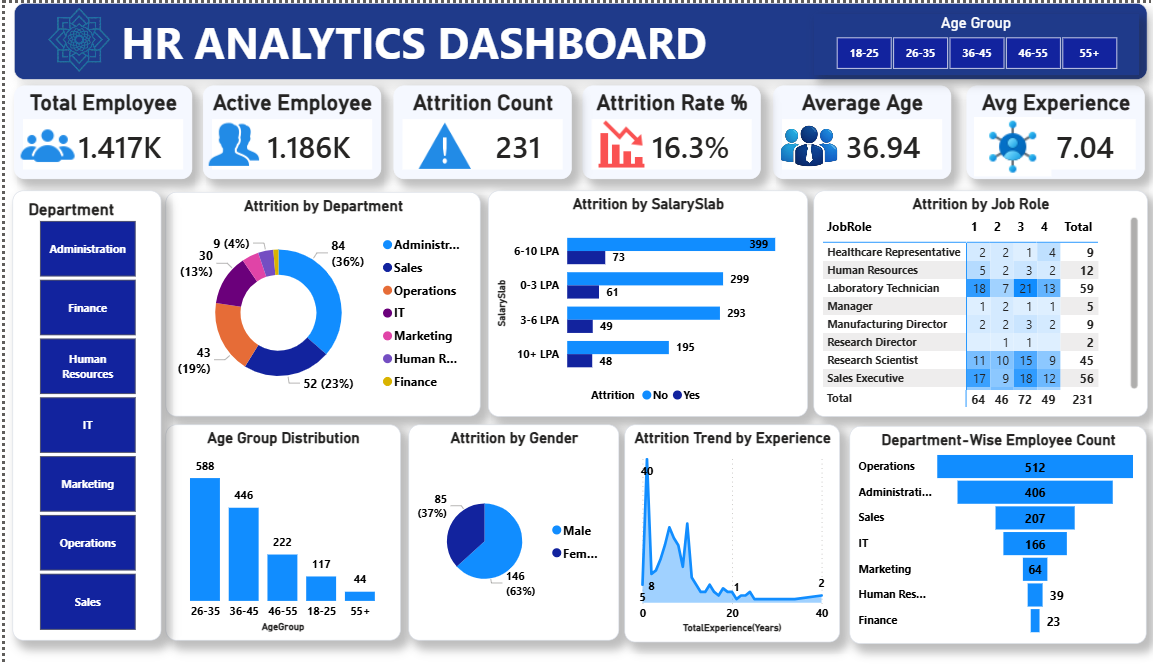

Layout of this report page (visuals, bound fields, positions):
{"tool":"powerbi","page":{"name":"Page 1","canvas":[1280,735],"ordinal":0},"visuals":[{"type":"textbox","box":[10,0,1259,85],"z":0},{"type":"image","box":[10,2,144,78],"z":1000},{"type":"cardVisual","title":"Total Employee","fields":{"Data":["CountNonNull(HR_Analytics-4.EmpID)"]},"box":[10,92,198,104],"z":2000},{"type":"cardVisual","title":"Active Employee","fields":{"Data":["CountNonNull(HR_Analytics-4.EmployeeCount)"]},"box":[220,92,198,104],"z":3000},{"type":"cardVisual","title":"Average Age","fields":{"Data":["Avg(HR_Analytics-4.Age)"]},"box":[854,92,198,104],"z":4000},{"type":"cardVisual","title":"Attrition Rate %","fields":{"Data":["HR_Analytics-4.Attrition Rate %"]},"box":[642,92,198,104],"z":5000},{"type":"cardVisual","title":"Attrition Count","fields":{"Data":["Sum(HR_Analytics-4.AttritionCount)"]},"box":[432,92,198,104],"z":6000},{"type":"cardVisual","title":"Avg Experience","fields":{"Data":["Avg(HR_Analytics-4.YearsatCompany)"]},"box":[1068,92,198,104],"z":7000},{"type":"image","box":[218,128,72,56],"z":8000},{"type":"image","box":[10,126.7,75,60],"z":9000},{"type":"image","box":[642,124,86,68],"z":10000},{"type":"image","box":[438,130,100,62],"z":11000},{"type":"image","box":[830,110,126,104],"z":12000},{"type":"image","box":[1076,126,86,66],"z":13000},{"type":"donutChart","title":"Attrition by Department","fields":{"Category":["HR_Analytics-4.Department"],"Y":["Sum(HR_Analytics-4.AttritionCount)"]},"box":[179,210,350,249],"z":14000},{"type":"clusteredBarChart","title":"Attrition by SalarySlab","fields":{"Category":["HR_Analytics-4.SalarySlab"],"Y":["CountNonNull(HR_Analytics-4.EmpID)"],"Series":["HR_Analytics-4.Attrition"]},"box":[537,209,355,251],"z":15000},{"type":"pivotTable","title":"Attrition by Job Role","fields":{"Rows":["HR_Analytics-4.JobRole"],"Values":["Sum(HR_Analytics-4.AttritionCount)"],"Columns":["HR_Analytics-4.JobSatisfaction"]},"box":[898,209,371,251],"z":16000},{"type":"columnChart","title":"Age Group Distribution","fields":{"Y":["Sum(HR_Analytics-4.EmployeeCount)"],"Category":["HR_Analytics-4.AgeGroup"]},"box":[179,469,261,240],"z":17000},{"type":"pieChart","title":" Attrition by Gender","fields":{"Y":["Sum(HR_Analytics-4.AttritionCount)"],"Category":["HR_Analytics-4.Gender"]},"box":[448,469,234,240],"z":18000},{"type":"areaChart","title":"Attrition Trend by Experience","fields":{"Category":["HR_Analytics-4.TotalExperience(Years)"],"Y":["Sum(HR_Analytics-4.AttritionCount)"]},"box":[689,469,239,242],"z":19000},{"type":"funnel","title":"Department-Wise Employee Count","fields":{"Y":["CountNonNull(HR_Analytics-4.EmpID)"],"Category":["HR_Analytics-4.Department"]},"box":[938,470,330,242],"z":20000},{"type":"slicer","fields":{"Values":["HR_Analytics-4.Department"]},"box":[9,209,165,500],"z":21000},{"type":"slicer","title":"Age Group","fields":{"Values":["HR_Analytics-4.AgeGroup"]},"box":[898,12,361,68],"z":22000}]}

Visuals, with their boxes in screenshot pixels (x1, y1, x2, y2), scaled from the page's 1280x735 canvas onto the 1153x664 screenshot:
textbox: [x1=9, y1=0, x2=1143, y2=77]
image: [x1=9, y1=2, x2=139, y2=72]
"Total Employee" cardVisual: [x1=9, y1=83, x2=187, y2=177]
"Active Employee" cardVisual: [x1=198, y1=83, x2=377, y2=177]
"Average Age" cardVisual: [x1=769, y1=83, x2=948, y2=177]
"Attrition Rate %" cardVisual: [x1=578, y1=83, x2=757, y2=177]
"Attrition Count" cardVisual: [x1=389, y1=83, x2=567, y2=177]
"Avg Experience" cardVisual: [x1=962, y1=83, x2=1140, y2=177]
image: [x1=196, y1=116, x2=261, y2=166]
image: [x1=9, y1=114, x2=77, y2=169]
image: [x1=578, y1=112, x2=656, y2=173]
image: [x1=395, y1=117, x2=485, y2=173]
image: [x1=748, y1=99, x2=861, y2=193]
image: [x1=969, y1=114, x2=1047, y2=173]
"Attrition by Department" donutChart: [x1=161, y1=190, x2=477, y2=415]
"Attrition by SalarySlab" clusteredBarChart: [x1=484, y1=189, x2=803, y2=416]
"Attrition by Job Role" pivotTable: [x1=809, y1=189, x2=1143, y2=416]
"Age Group Distribution" columnChart: [x1=161, y1=424, x2=396, y2=641]
" Attrition by Gender" pieChart: [x1=404, y1=424, x2=614, y2=641]
"Attrition Trend by Experience" areaChart: [x1=621, y1=424, x2=836, y2=642]
"Department-Wise Employee Count" funnel: [x1=845, y1=425, x2=1142, y2=643]
slicer - HR_Analytics-4.Department: [x1=8, y1=189, x2=157, y2=641]
"Age Group" slicer: [x1=809, y1=11, x2=1134, y2=72]
